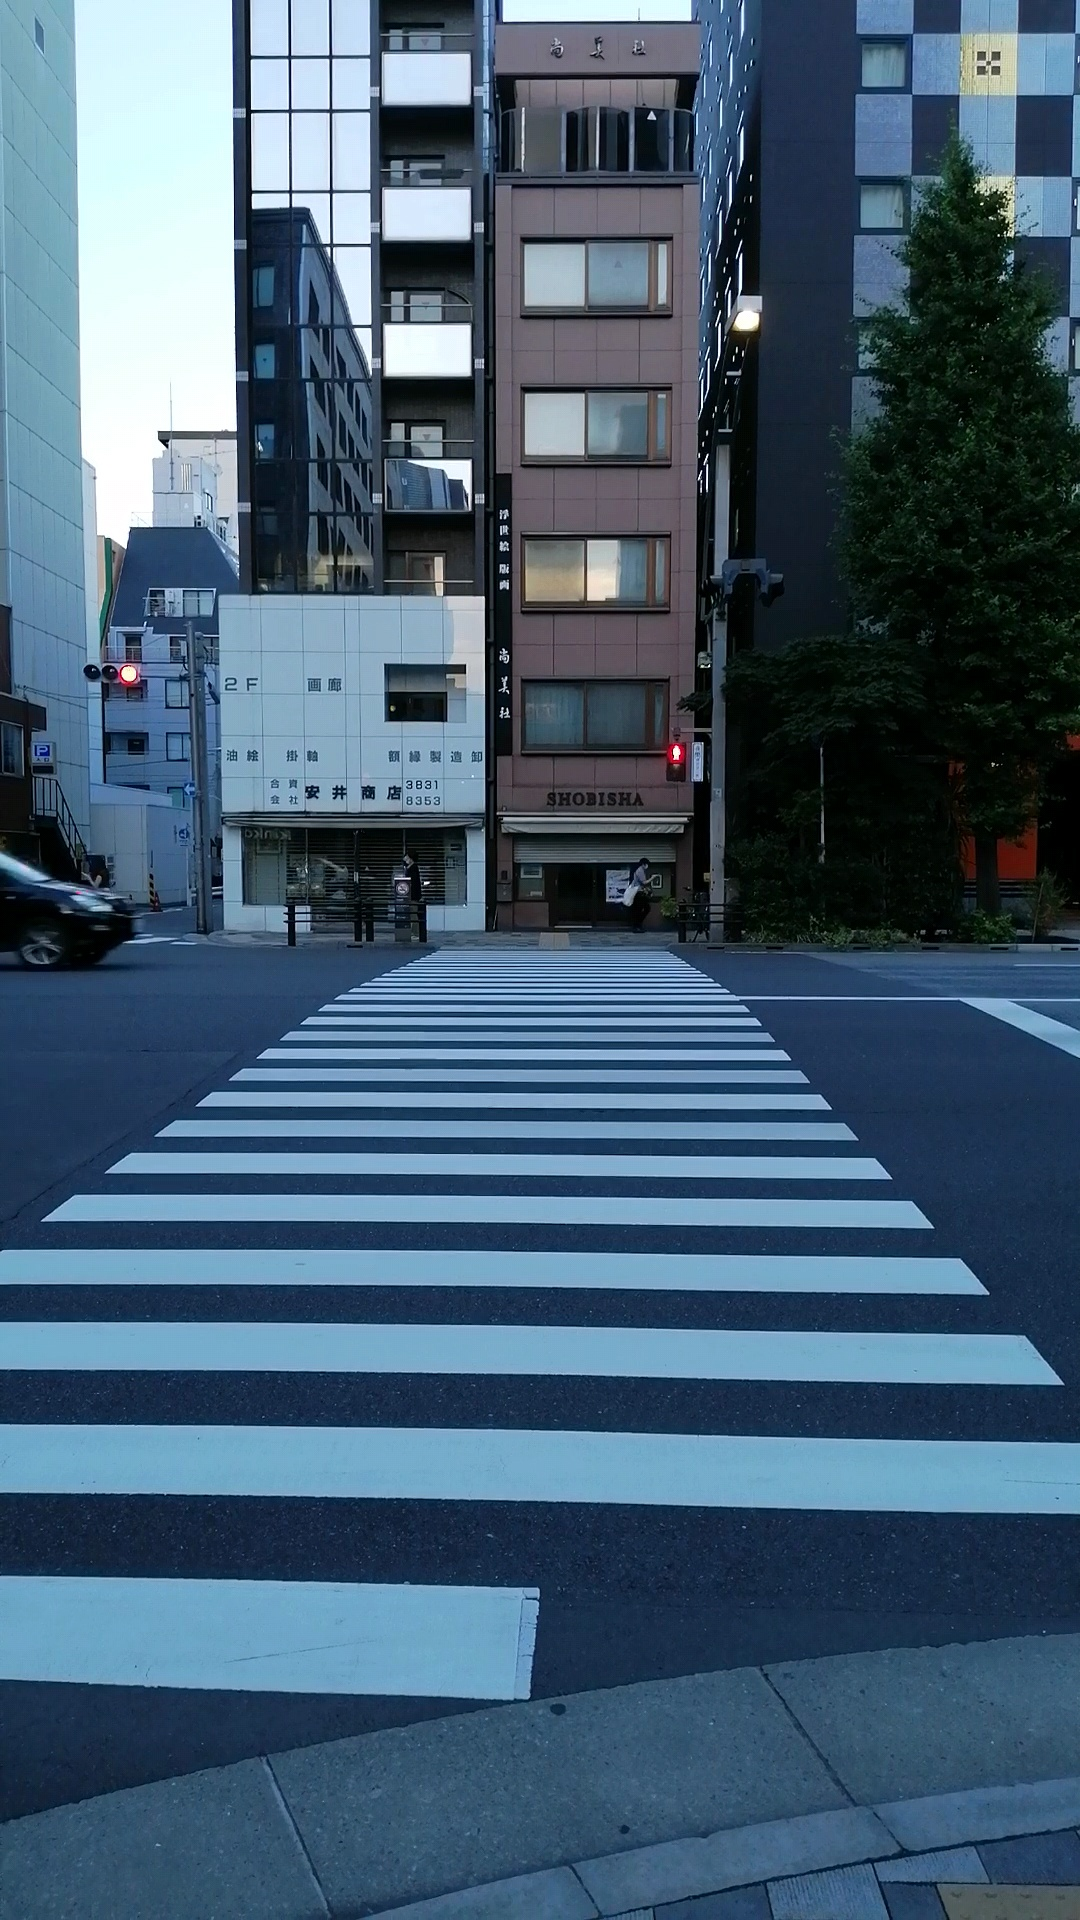red: (665, 738, 686, 785)
